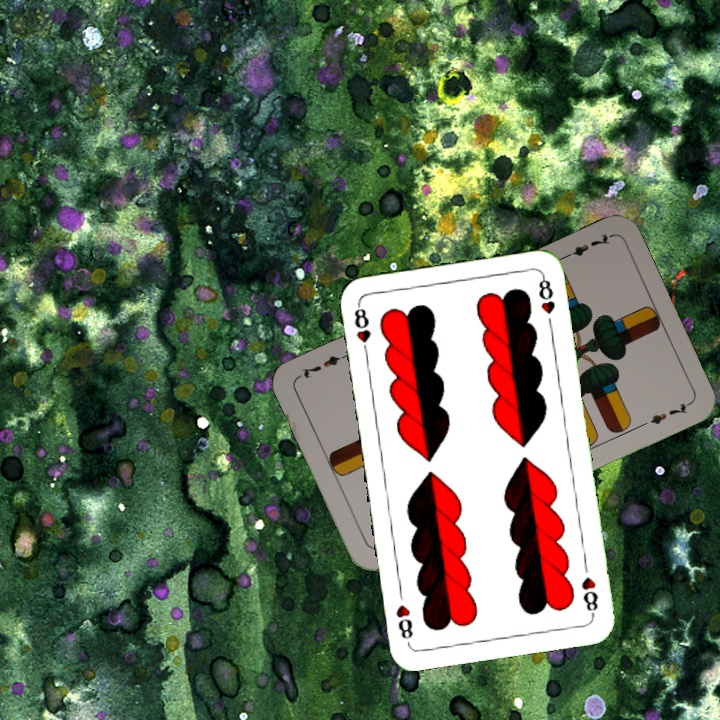E7: (558, 230, 614, 262)
H8: (350, 300, 373, 359), (577, 572, 601, 618)
